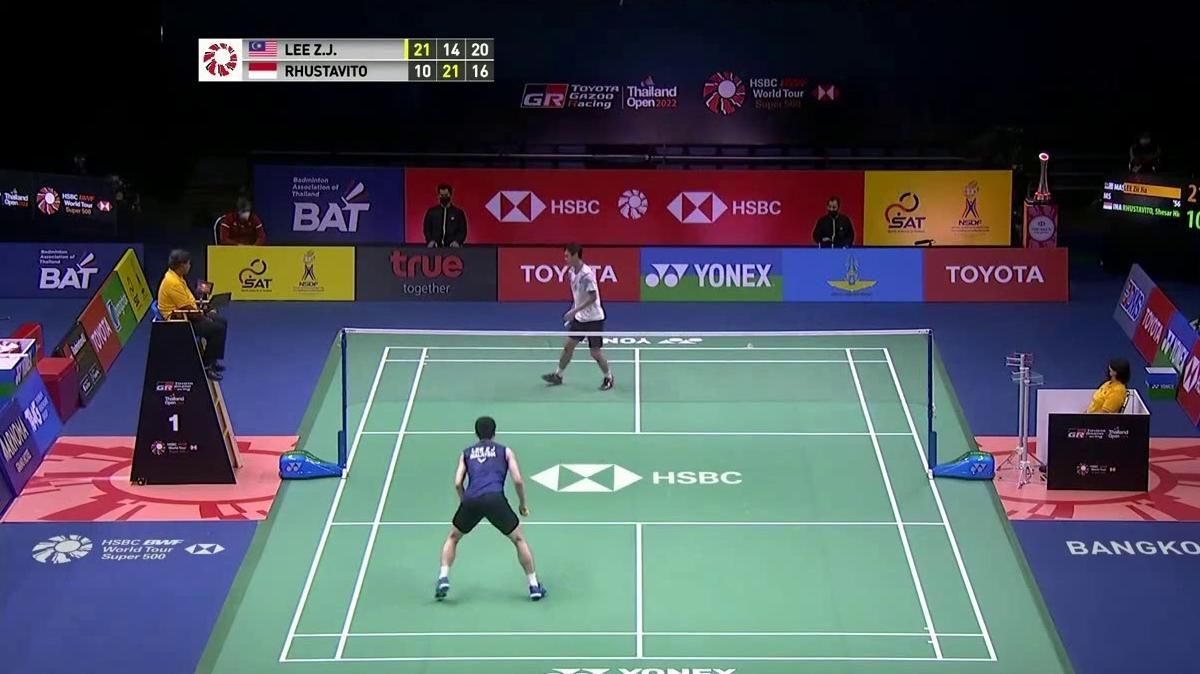racket: (526, 320, 569, 362), (521, 506, 532, 518)
shuttle: (746, 341, 754, 350)
